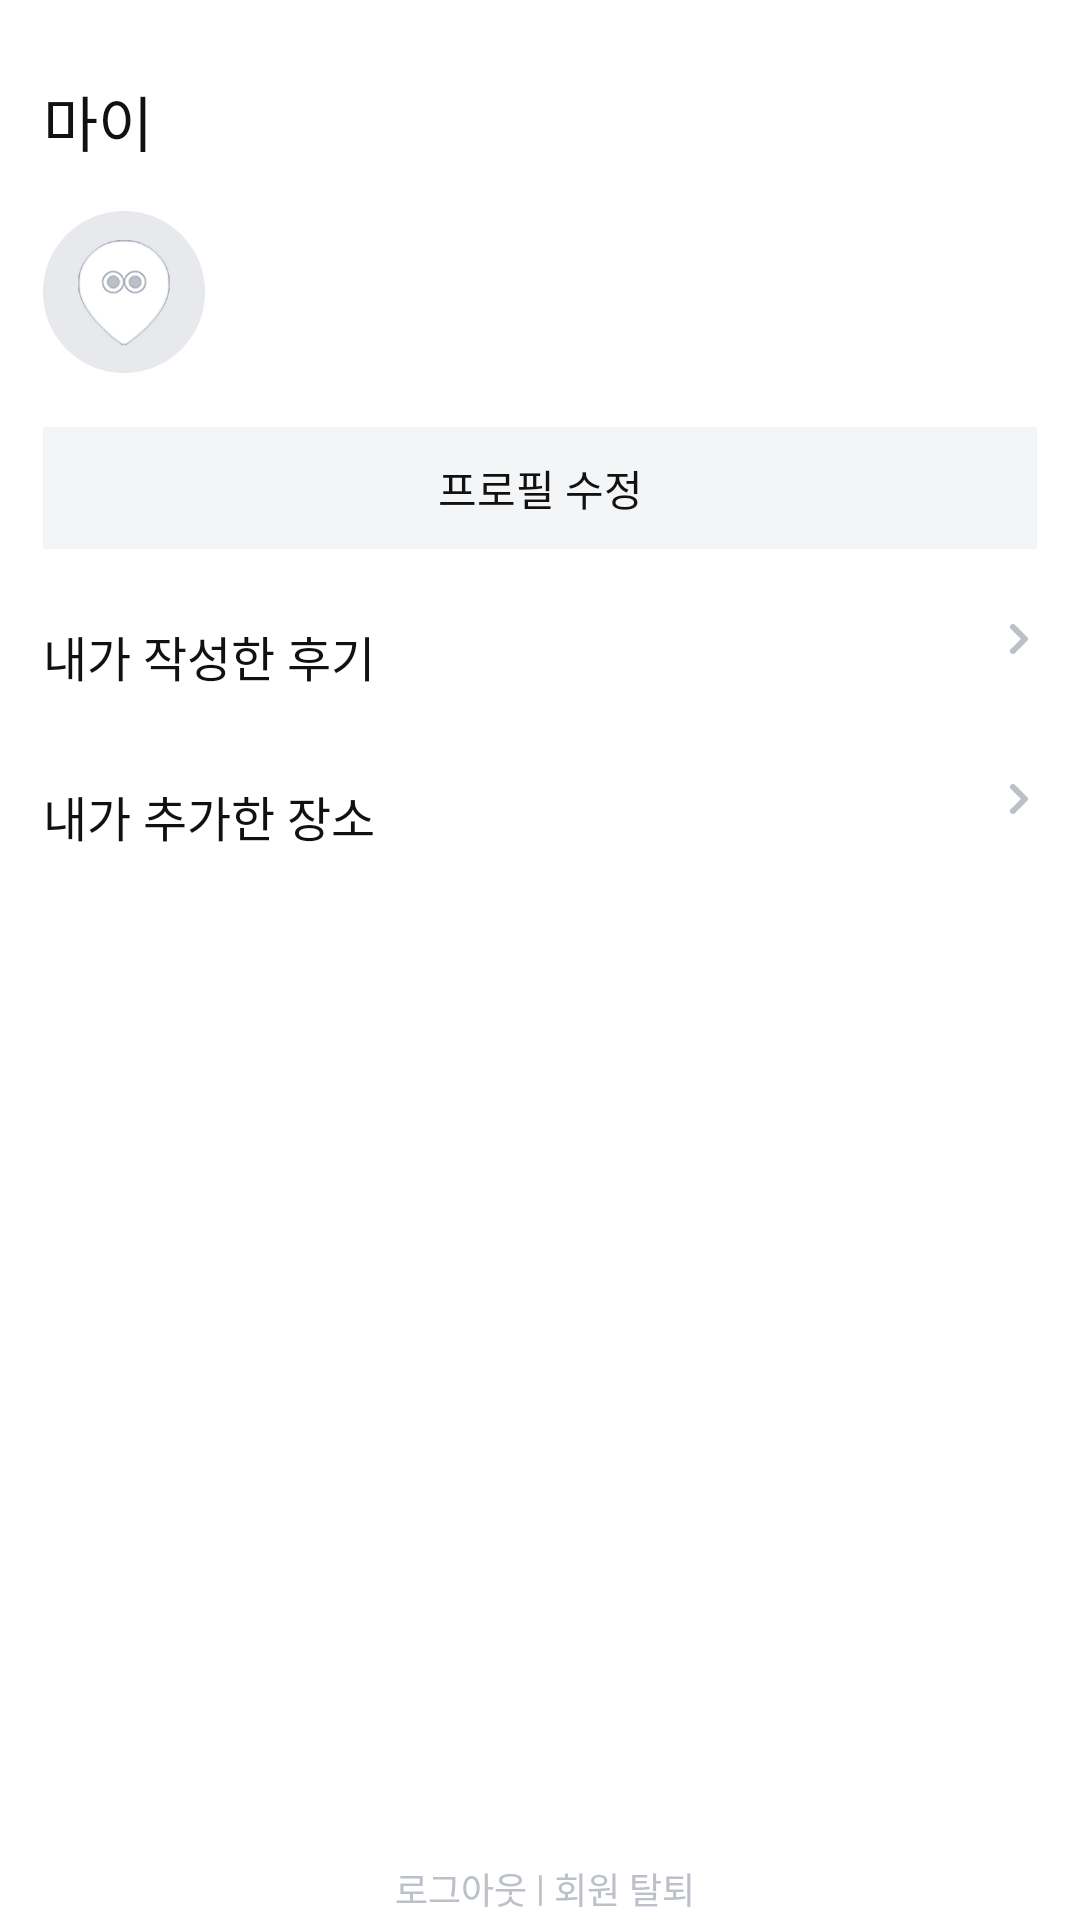

Locate icon controls on the screen. Image size 1080x1920, boxes as (x1, y1, x2, y2).
profile: (78, 240, 170, 346)
right: (1010, 624, 1028, 654), (1010, 784, 1028, 814)
